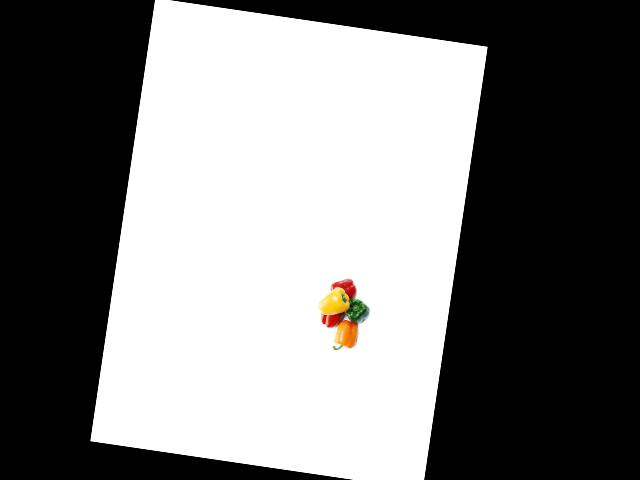bell_pepper: (337, 291, 375, 326)
